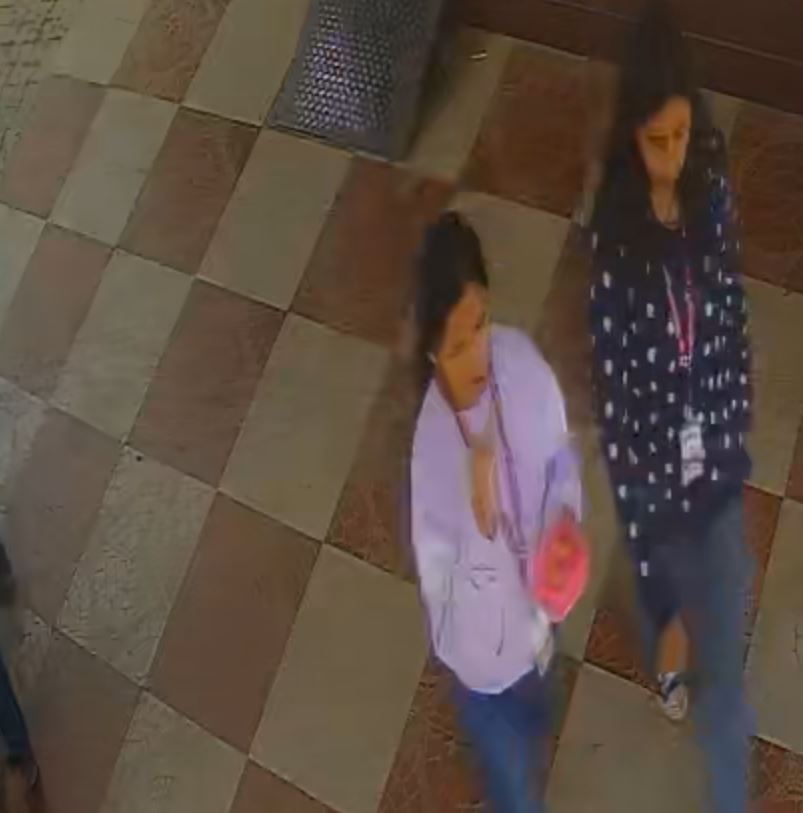intruder: (575, 1, 777, 784), (401, 197, 602, 806)
